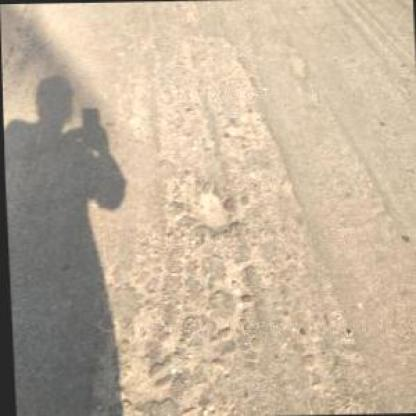pothole: (180, 187, 236, 237)
